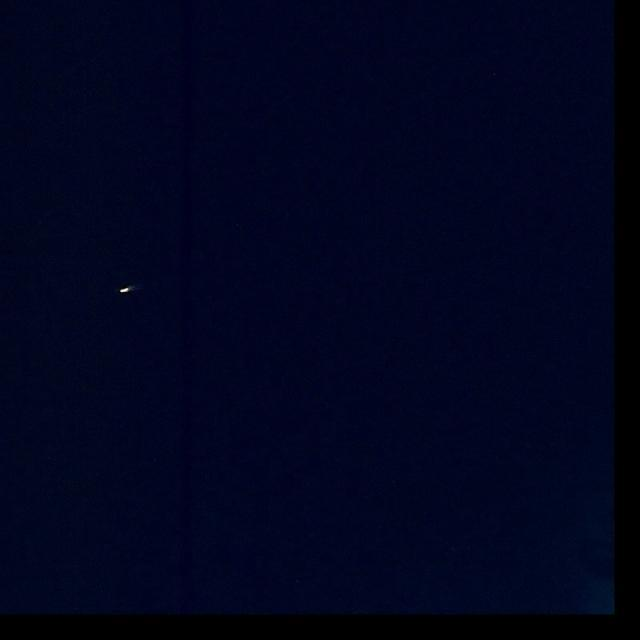ship: (119, 286, 133, 294)
